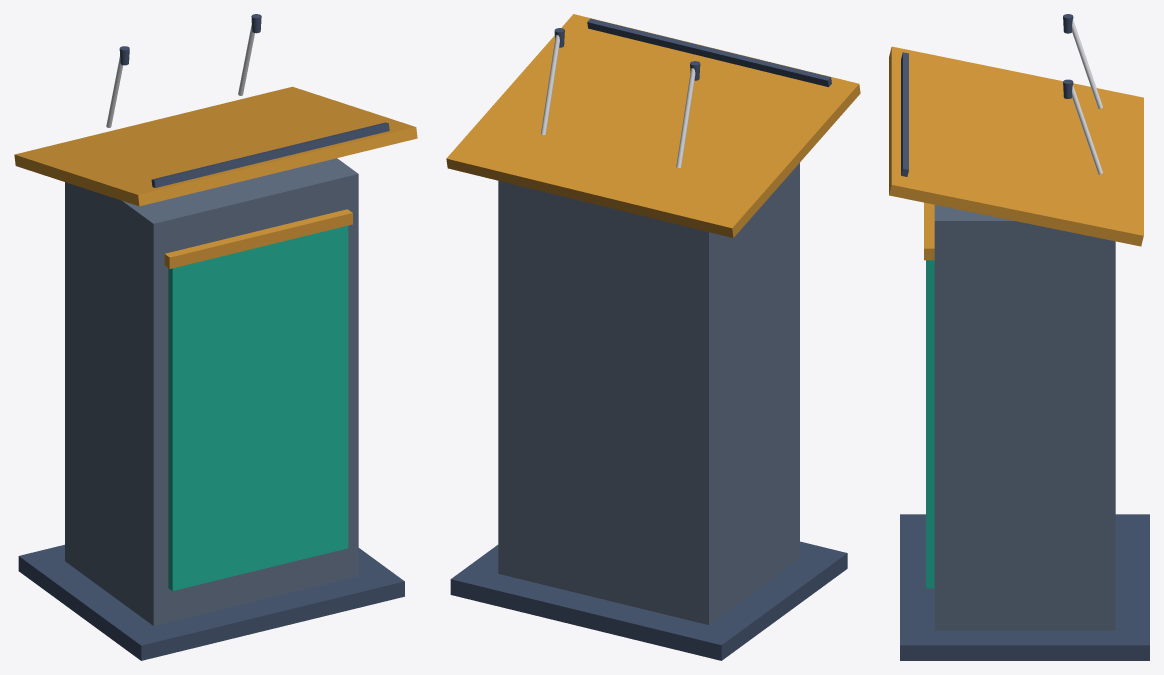
File: podium_kuliah.glb
The picture shows the model from 3 angles, left to right: view 1: azimuth 30°, elevation 25°; view 2: azimuth 150°, elevation 25°; view 3: azimuth 270°, elevation 25°; orthographic projection. The views are drawn at different scales.
Parts seen in each view (by area): view 1: Podium_Kuliah_Mimbar; view 2: Podium_Kuliah_Mimbar; view 3: Podium_Kuliah_Mimbar.
Part boxes in pixels (x1,y1,x2,y2): Podium_Kuliah_Mimbar: (14, 14, 417, 660); Podium_Kuliah_Mimbar: (446, 14, 860, 660); Podium_Kuliah_Mimbar: (889, 14, 1149, 660).
Size of the model in its own units: 0.76 by 1.4 by 0.6058.
